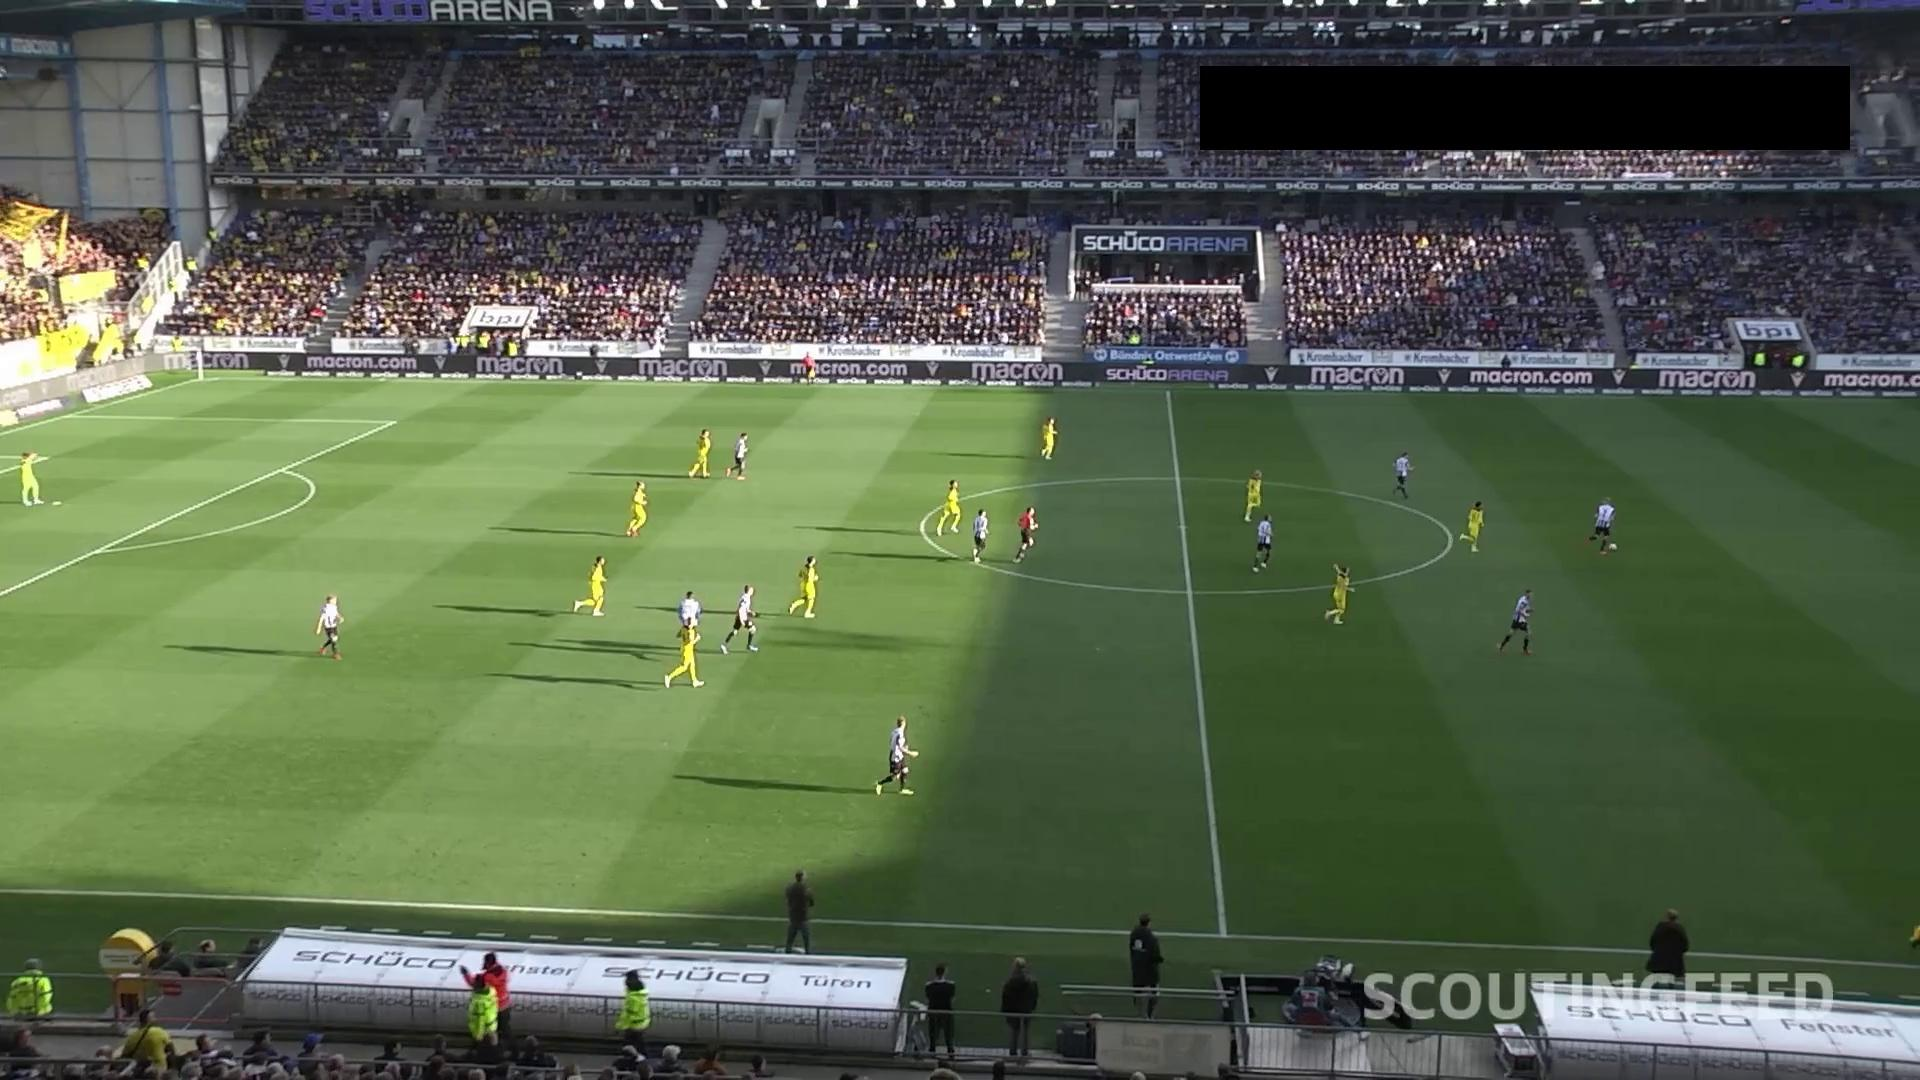Location-of-ball: (1605, 535, 1627, 560)
